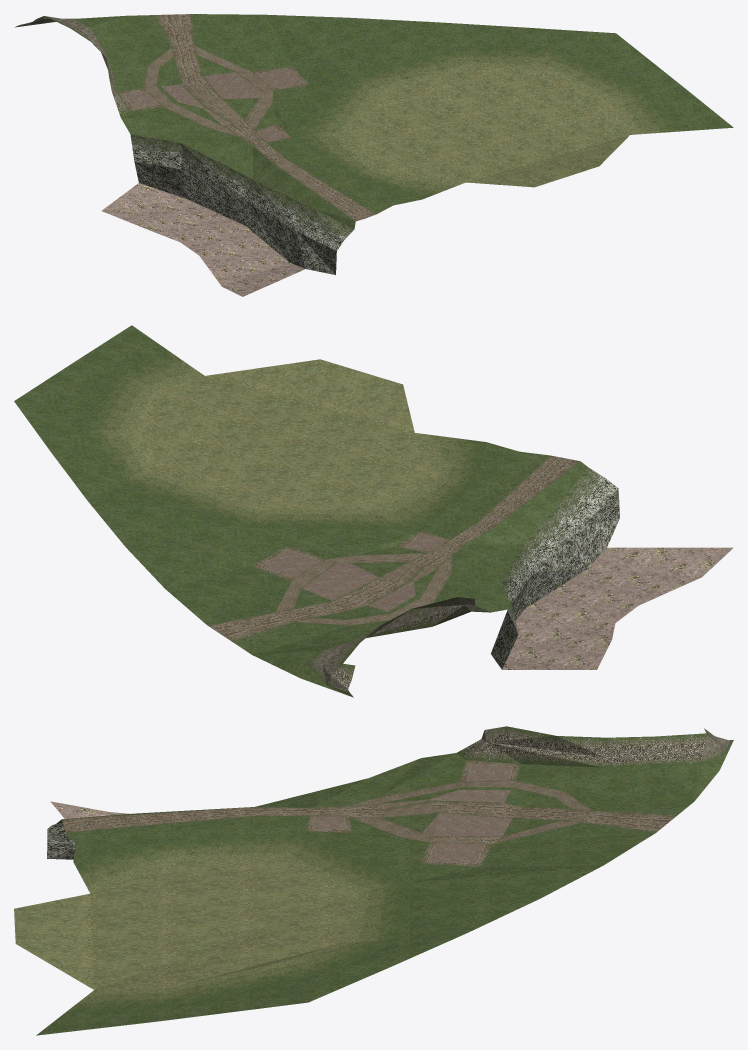
The model's file is lodcunteground17.obj.
3 renders of one model, top to bottom at view 1: azimuth 30°, elevation 25°; view 2: azimuth 150°, elevation 25°; view 3: azimuth 270°, elevation 25°, orthographic. The views are drawn at different scales.
Parts seen in each view (by area): view 1: LODcuntEground17; view 2: LODcuntEground17; view 3: LODcuntEground17.
Part boxes in pixels (x1=…): LODcuntEground17: x1=15, y1=14, x2=733, y2=296; LODcuntEground17: x1=14, y1=325, x2=733, y2=697; LODcuntEground17: x1=14, y1=726, x2=733, y2=1035.
Bounding box in the file's own units: 277 × 48.74 × 268.
Materials: 9 (9 with a texture image).
